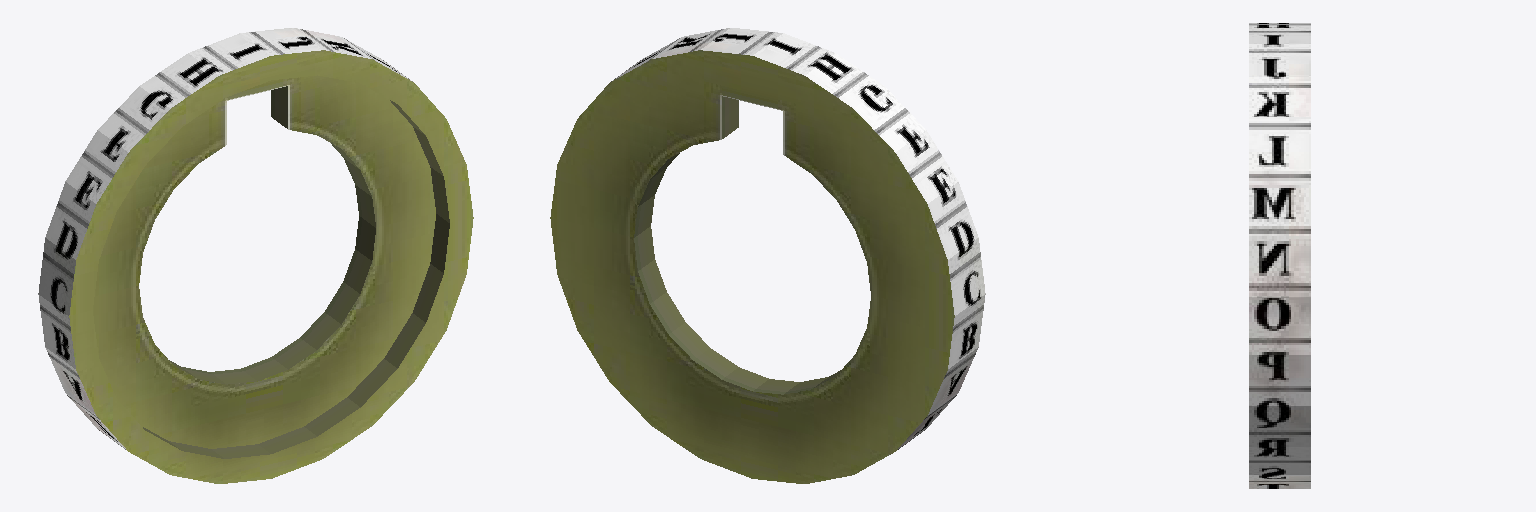
3 views of the same model, side by side, from view 1: azimuth 30°, elevation 25°; view 2: azimuth 150°, elevation 25°; view 3: azimuth 270°, elevation 25° (orthographic).
Parts seen in each view (by area): view 1: object 1; view 2: object 1; view 3: object 1.
Boxes of the visible parts, x1,y1,x2,y2 form: object 1: [38, 28, 473, 483]; object 1: [550, 28, 985, 483]; object 1: [1249, 23, 1310, 488].
Size of the model in its own units: 337 by 337 by 44.65.
Materials: 1 (1 with a texture image).